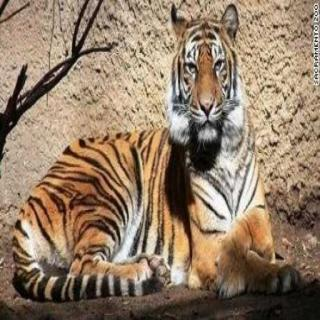Tiger: (8, 0, 280, 313)
